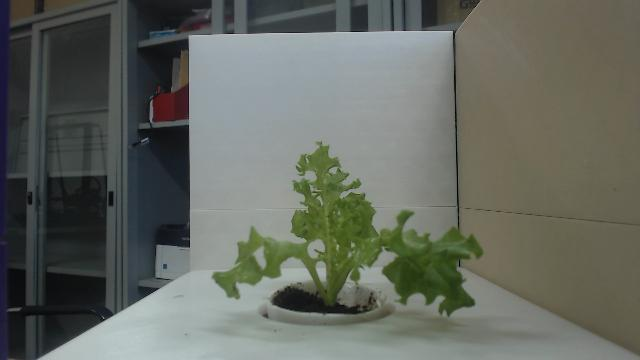Vegetative Stage: (212, 138, 486, 320)
